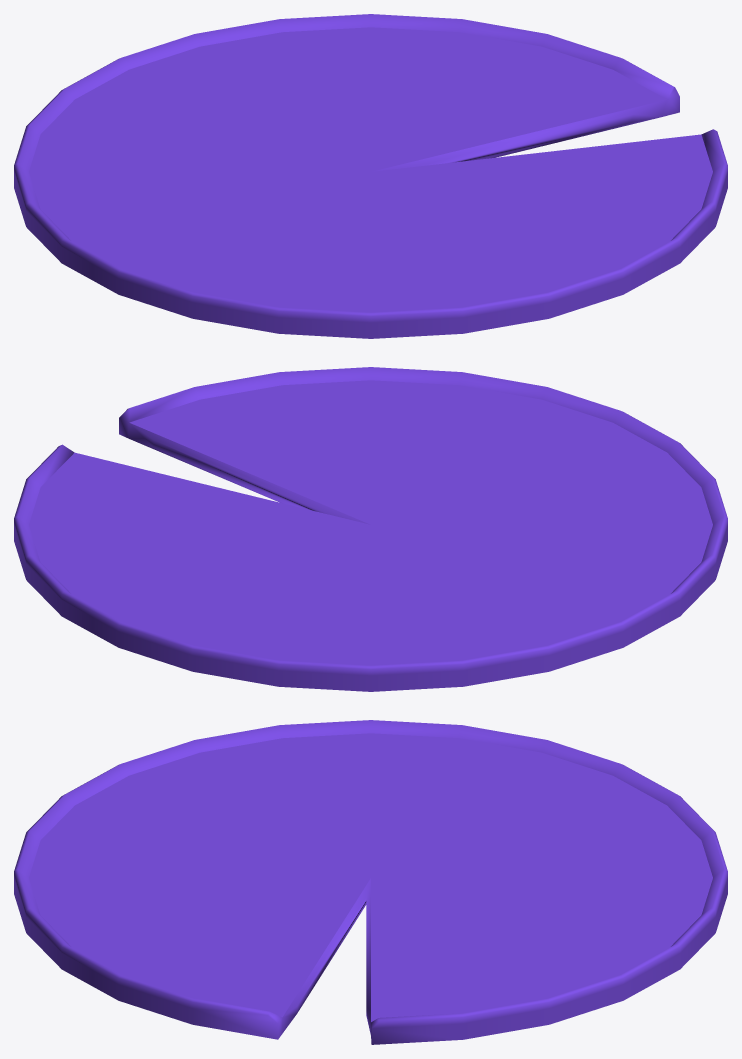
File: Lilypad.fbx
3 renders of one model, top to bottom at view 1: azimuth 30°, elevation 25°; view 2: azimuth 150°, elevation 25°; view 3: azimuth 270°, elevation 25°, orthographic.
Visible parts, largest first — view 1: Cylinder; view 2: Cylinder; view 3: Cylinder.
Boxes of the visible parts, x1=… form: Cylinder: x1=14, y1=14, x2=727, y2=338; Cylinder: x1=14, y1=367, x2=727, y2=691; Cylinder: x1=14, y1=720, x2=727, y2=1044.
Size of the model in its own units: 558 by 21.5 by 558.
